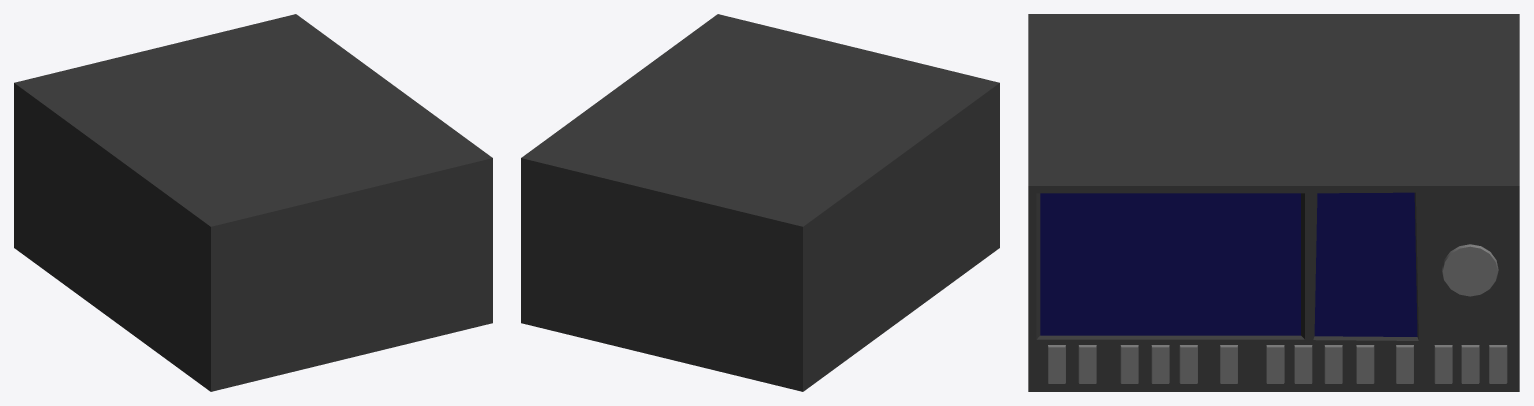
The model's file is tele3.fbx.
3 renders of one model, left to right at view 1: azimuth 30°, elevation 25°; view 2: azimuth 150°, elevation 25°; view 3: azimuth 270°, elevation 25°, orthographic. The views are drawn at different scales.
Visible parts, largest first — view 1: tele3_blocking; view 2: tele3_blocking; view 3: tele3_blocking.
Boxes of the visible parts, box(x1,y1,x2,y2) form: tele3_blocking: box(14, 14, 492, 391); tele3_blocking: box(521, 14, 999, 391); tele3_blocking: box(1028, 14, 1519, 391).
Size of the model in its own units: 202 by 112 by 242.
